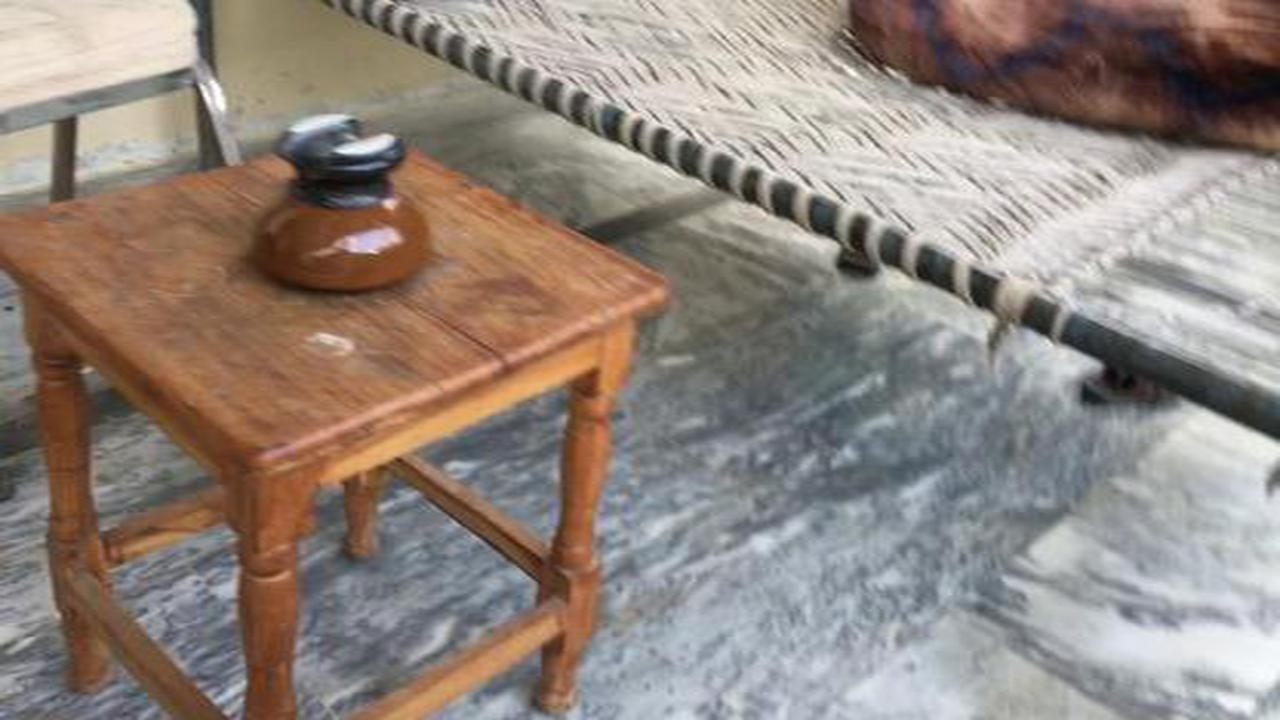insulator_pin: (240, 96, 453, 309)
